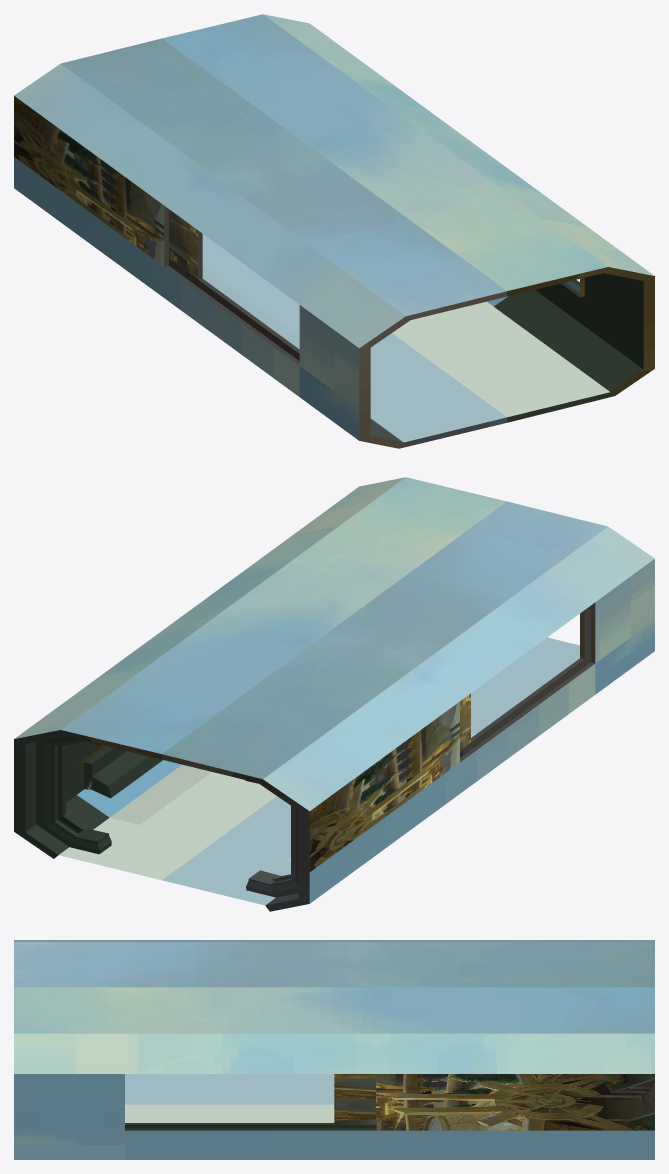
The model's file is neo12-7-2022.glb.
3 views of the same model, one above another, from view 1: azimuth 30°, elevation 25°; view 2: azimuth 150°, elevation 25°; view 3: azimuth 270°, elevation 25° (orthographic). The views are drawn at different scales.
Parts seen in each view (by area): view 1: Cube; view 2: Cube; view 3: Cube.
Boxes of the visible parts, box(x1,y1,x2,y2) form: Cube: box(14, 14, 654, 448); Cube: box(14, 477, 654, 911); Cube: box(14, 940, 654, 1159).
Bounding box in the file's own units: 4.34 × 1.85 × 8.77.
Materials: 1 (1 with a texture image).
